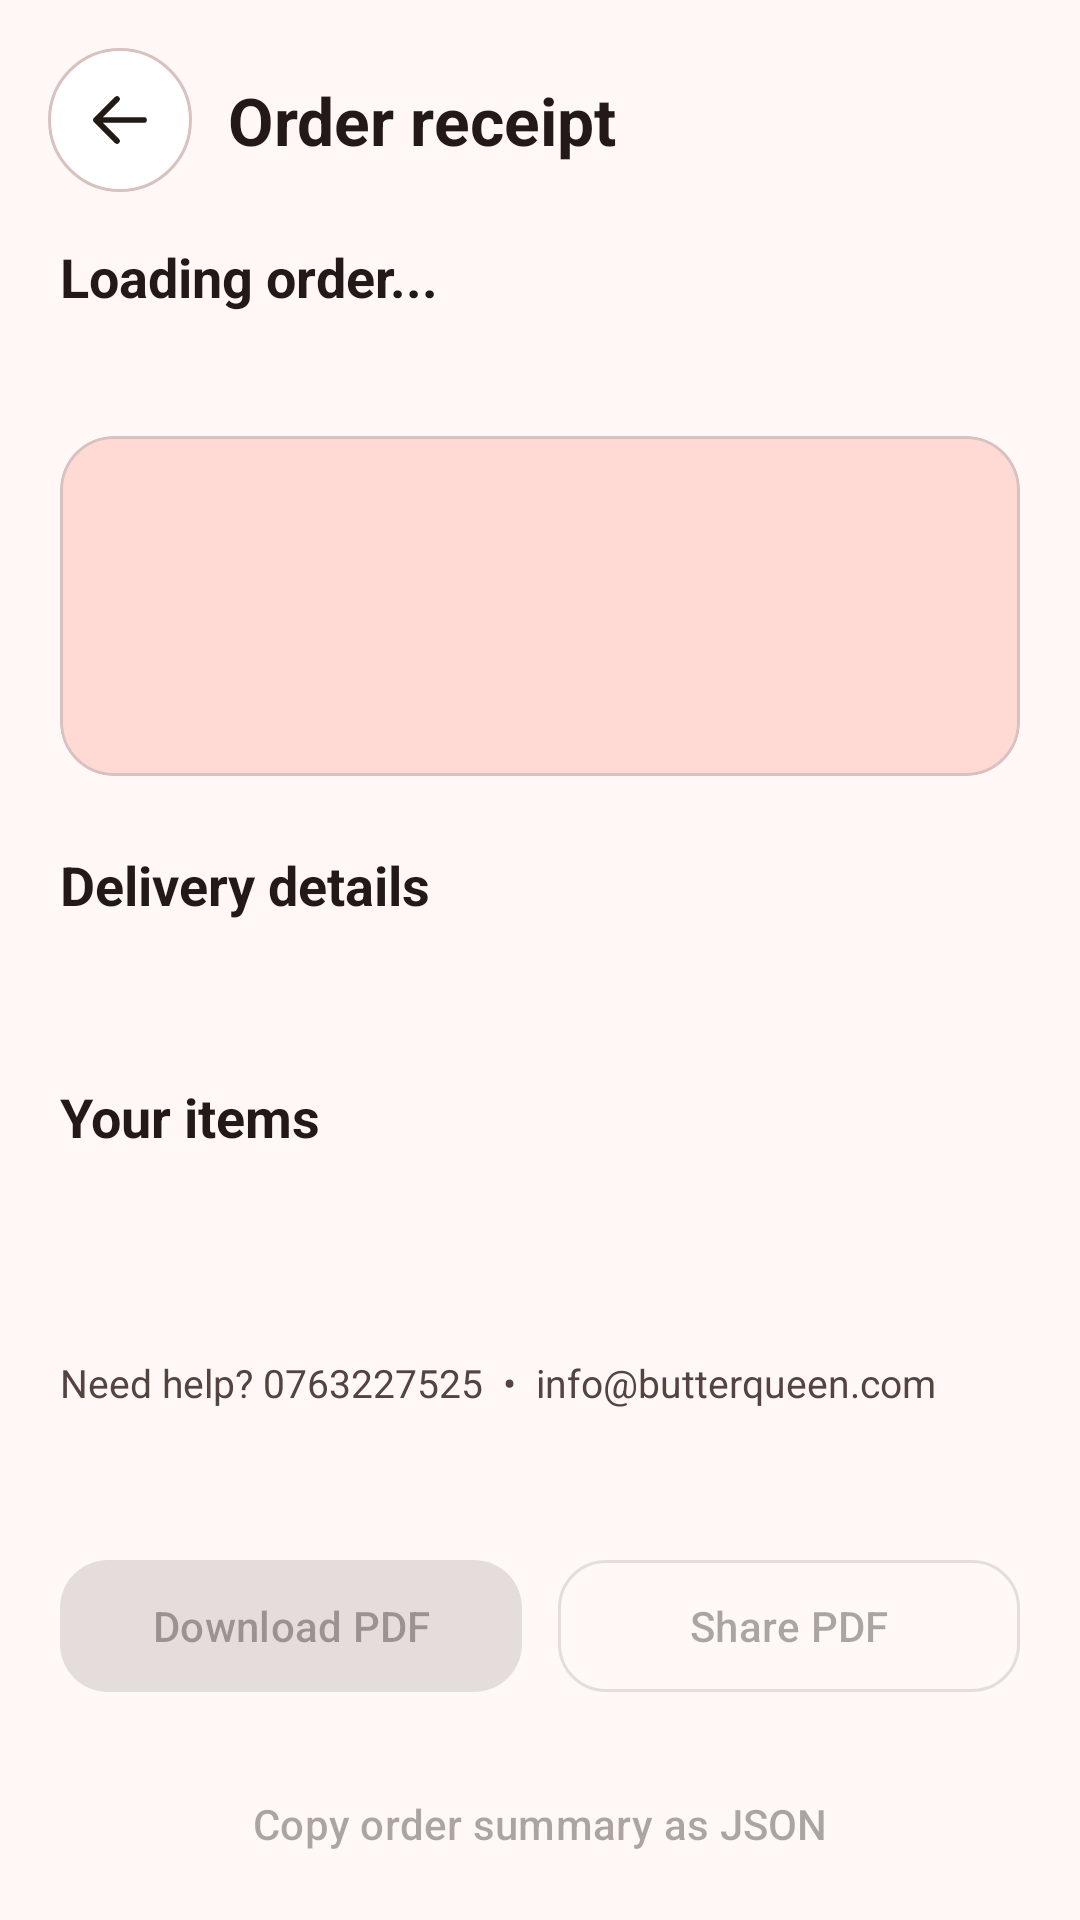

Where icons sit on this 1080 x 1920 app screen, as (x1, y1, x2, y2):
Back to orders: (48, 48, 192, 192)
